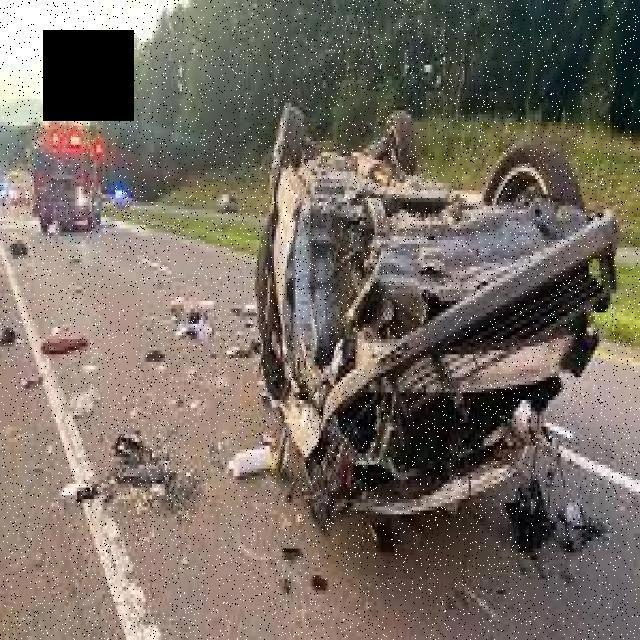multiple_accident: (140, 58, 640, 572)
